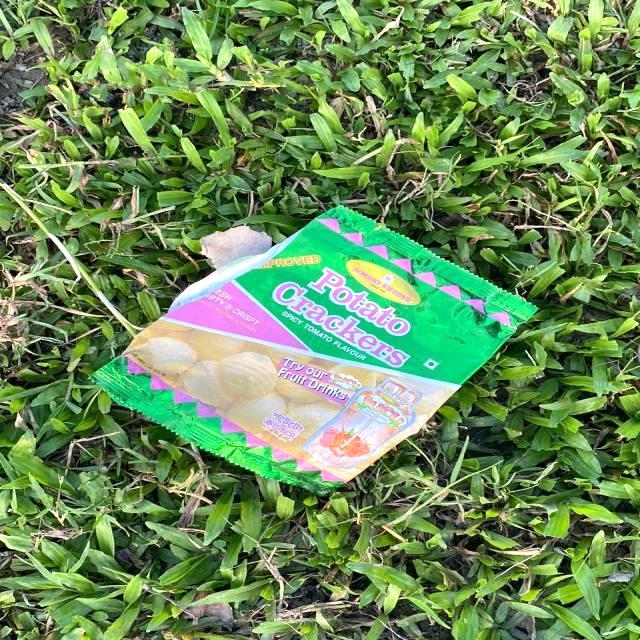packet: (162, 212, 478, 494)
